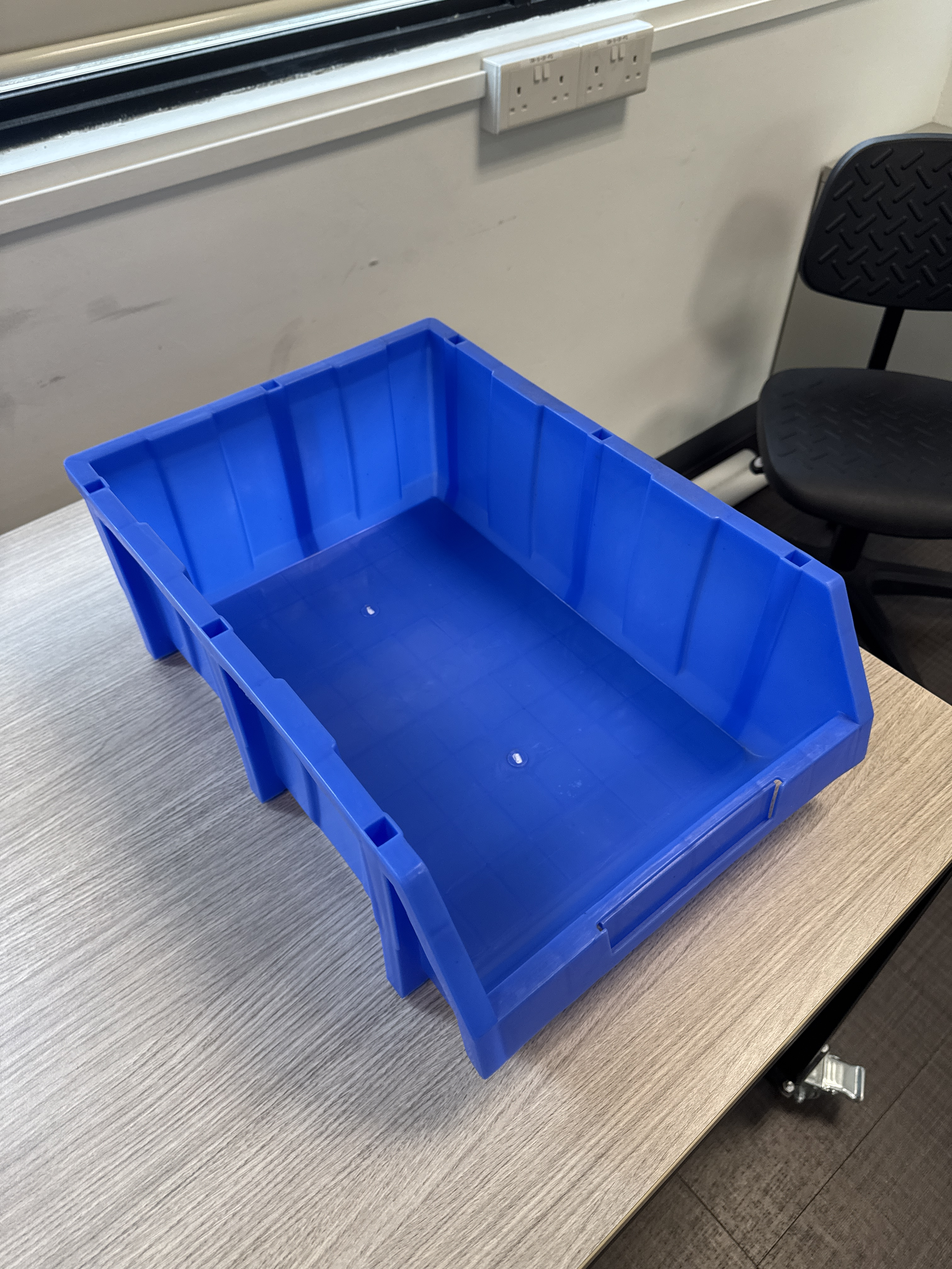Bin Boundary: (91, 154, 902, 995)
